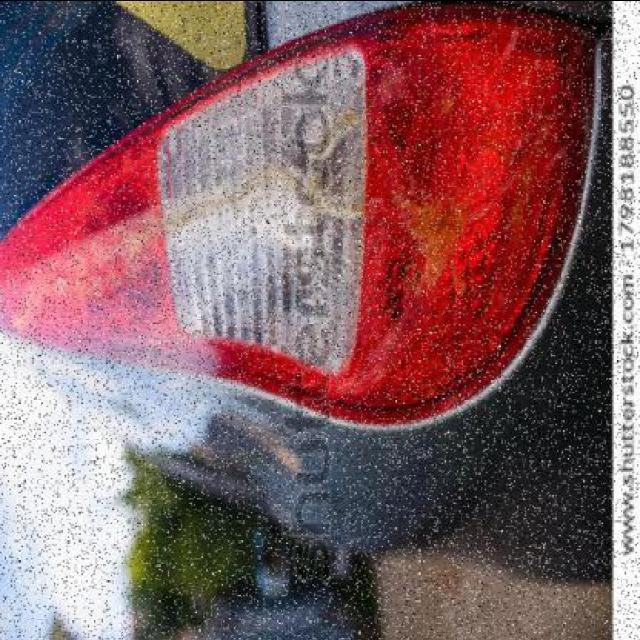Taillight-Damage: (3, 14, 600, 508)
